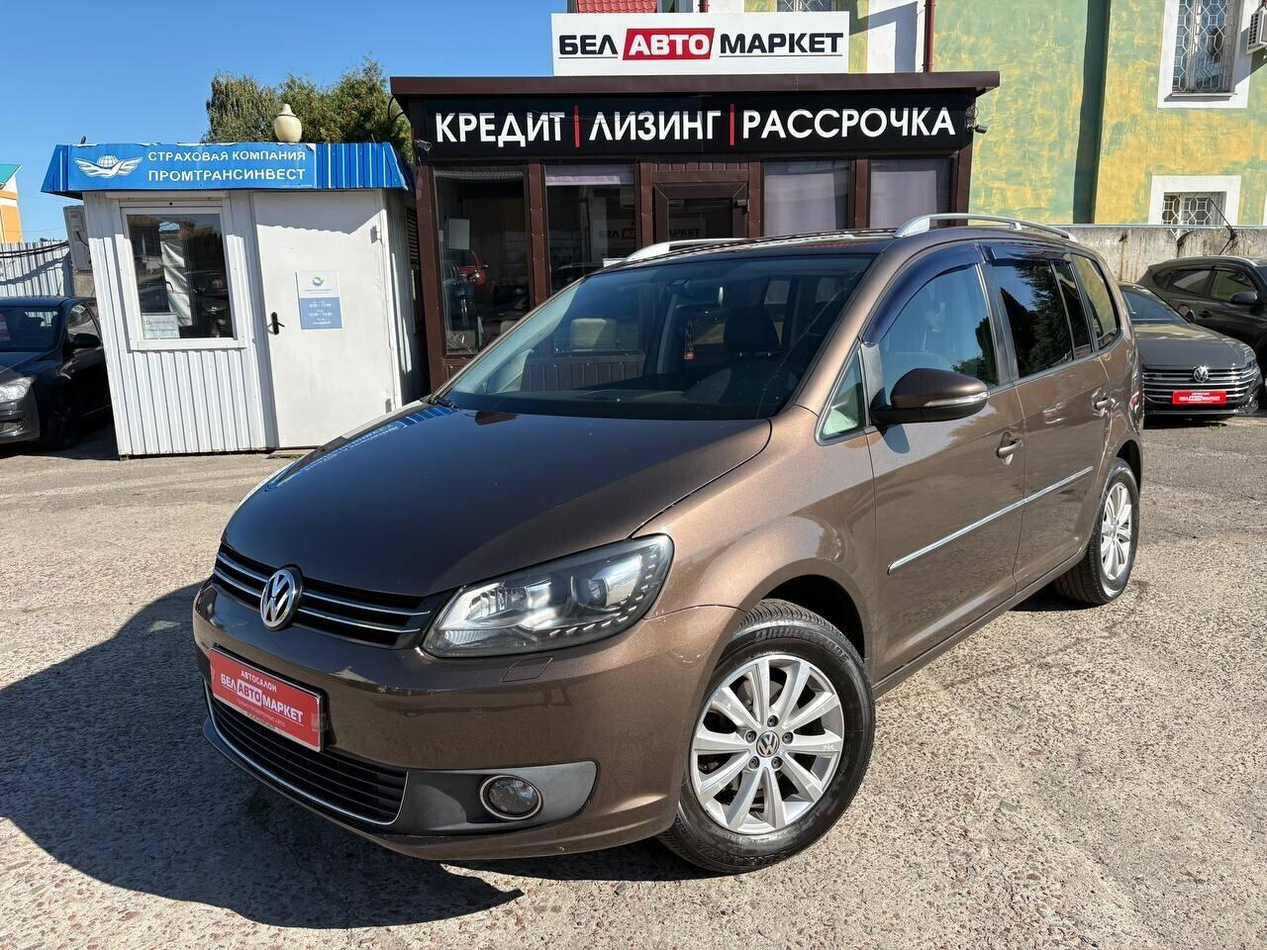Touran_2010-2015: (188, 220, 1149, 878)
